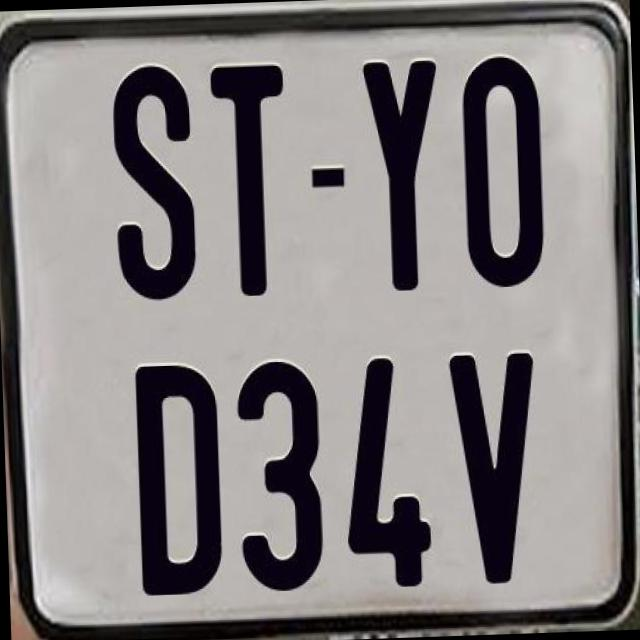0: (456, 52, 550, 286)
3: (232, 358, 322, 600)
4: (341, 356, 435, 588)
D: (132, 360, 222, 602)
S: (111, 63, 202, 310)
T: (205, 64, 294, 302)
V: (446, 348, 544, 586)
Y: (361, 56, 448, 288)
